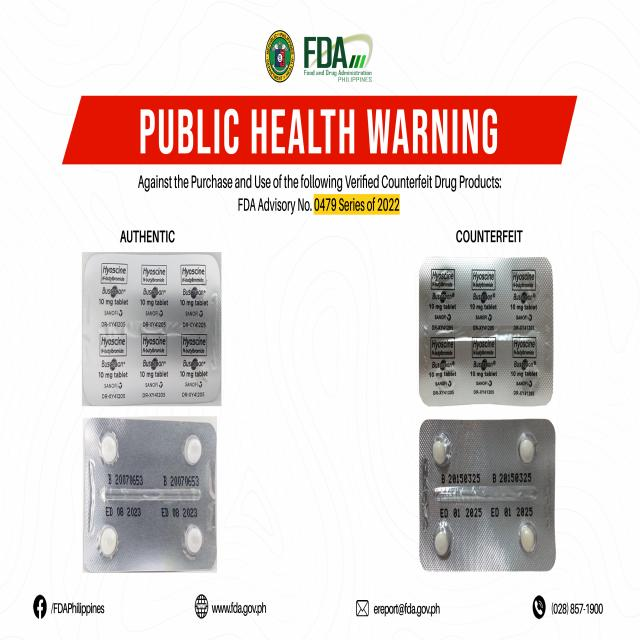authentic: (80, 251, 223, 406), (81, 417, 218, 570)
counterfeit: (419, 252, 555, 404), (423, 421, 555, 573)
